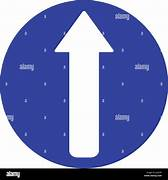stop: (2, 1, 168, 170)
